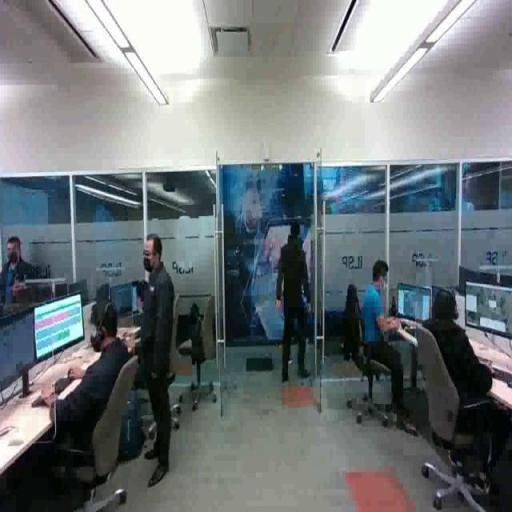person: (15, 299, 139, 505), (417, 291, 512, 505), (352, 260, 425, 441), (140, 233, 174, 489), (276, 224, 314, 385), (1, 234, 51, 314)
